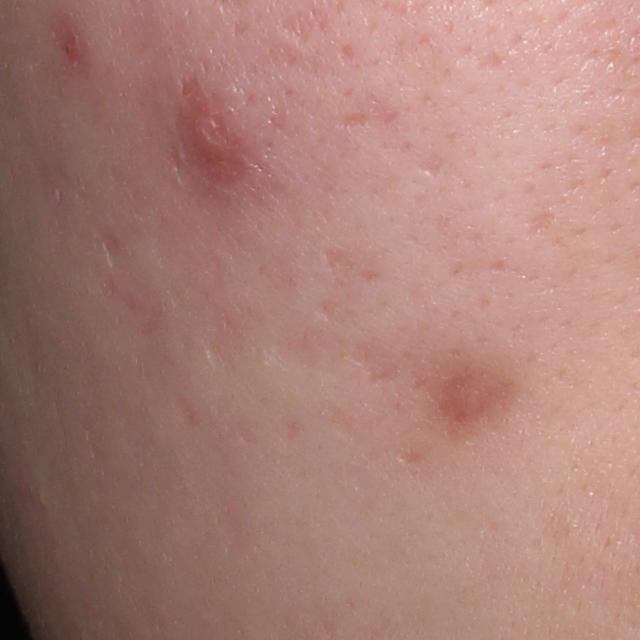atrophic_scar: (274, 328, 334, 369), (357, 341, 399, 381), (283, 11, 314, 44), (176, 394, 200, 425), (417, 152, 442, 179), (529, 212, 555, 236), (104, 236, 119, 266), (340, 44, 353, 65)
papule: (184, 78, 249, 189), (62, 32, 89, 72)
